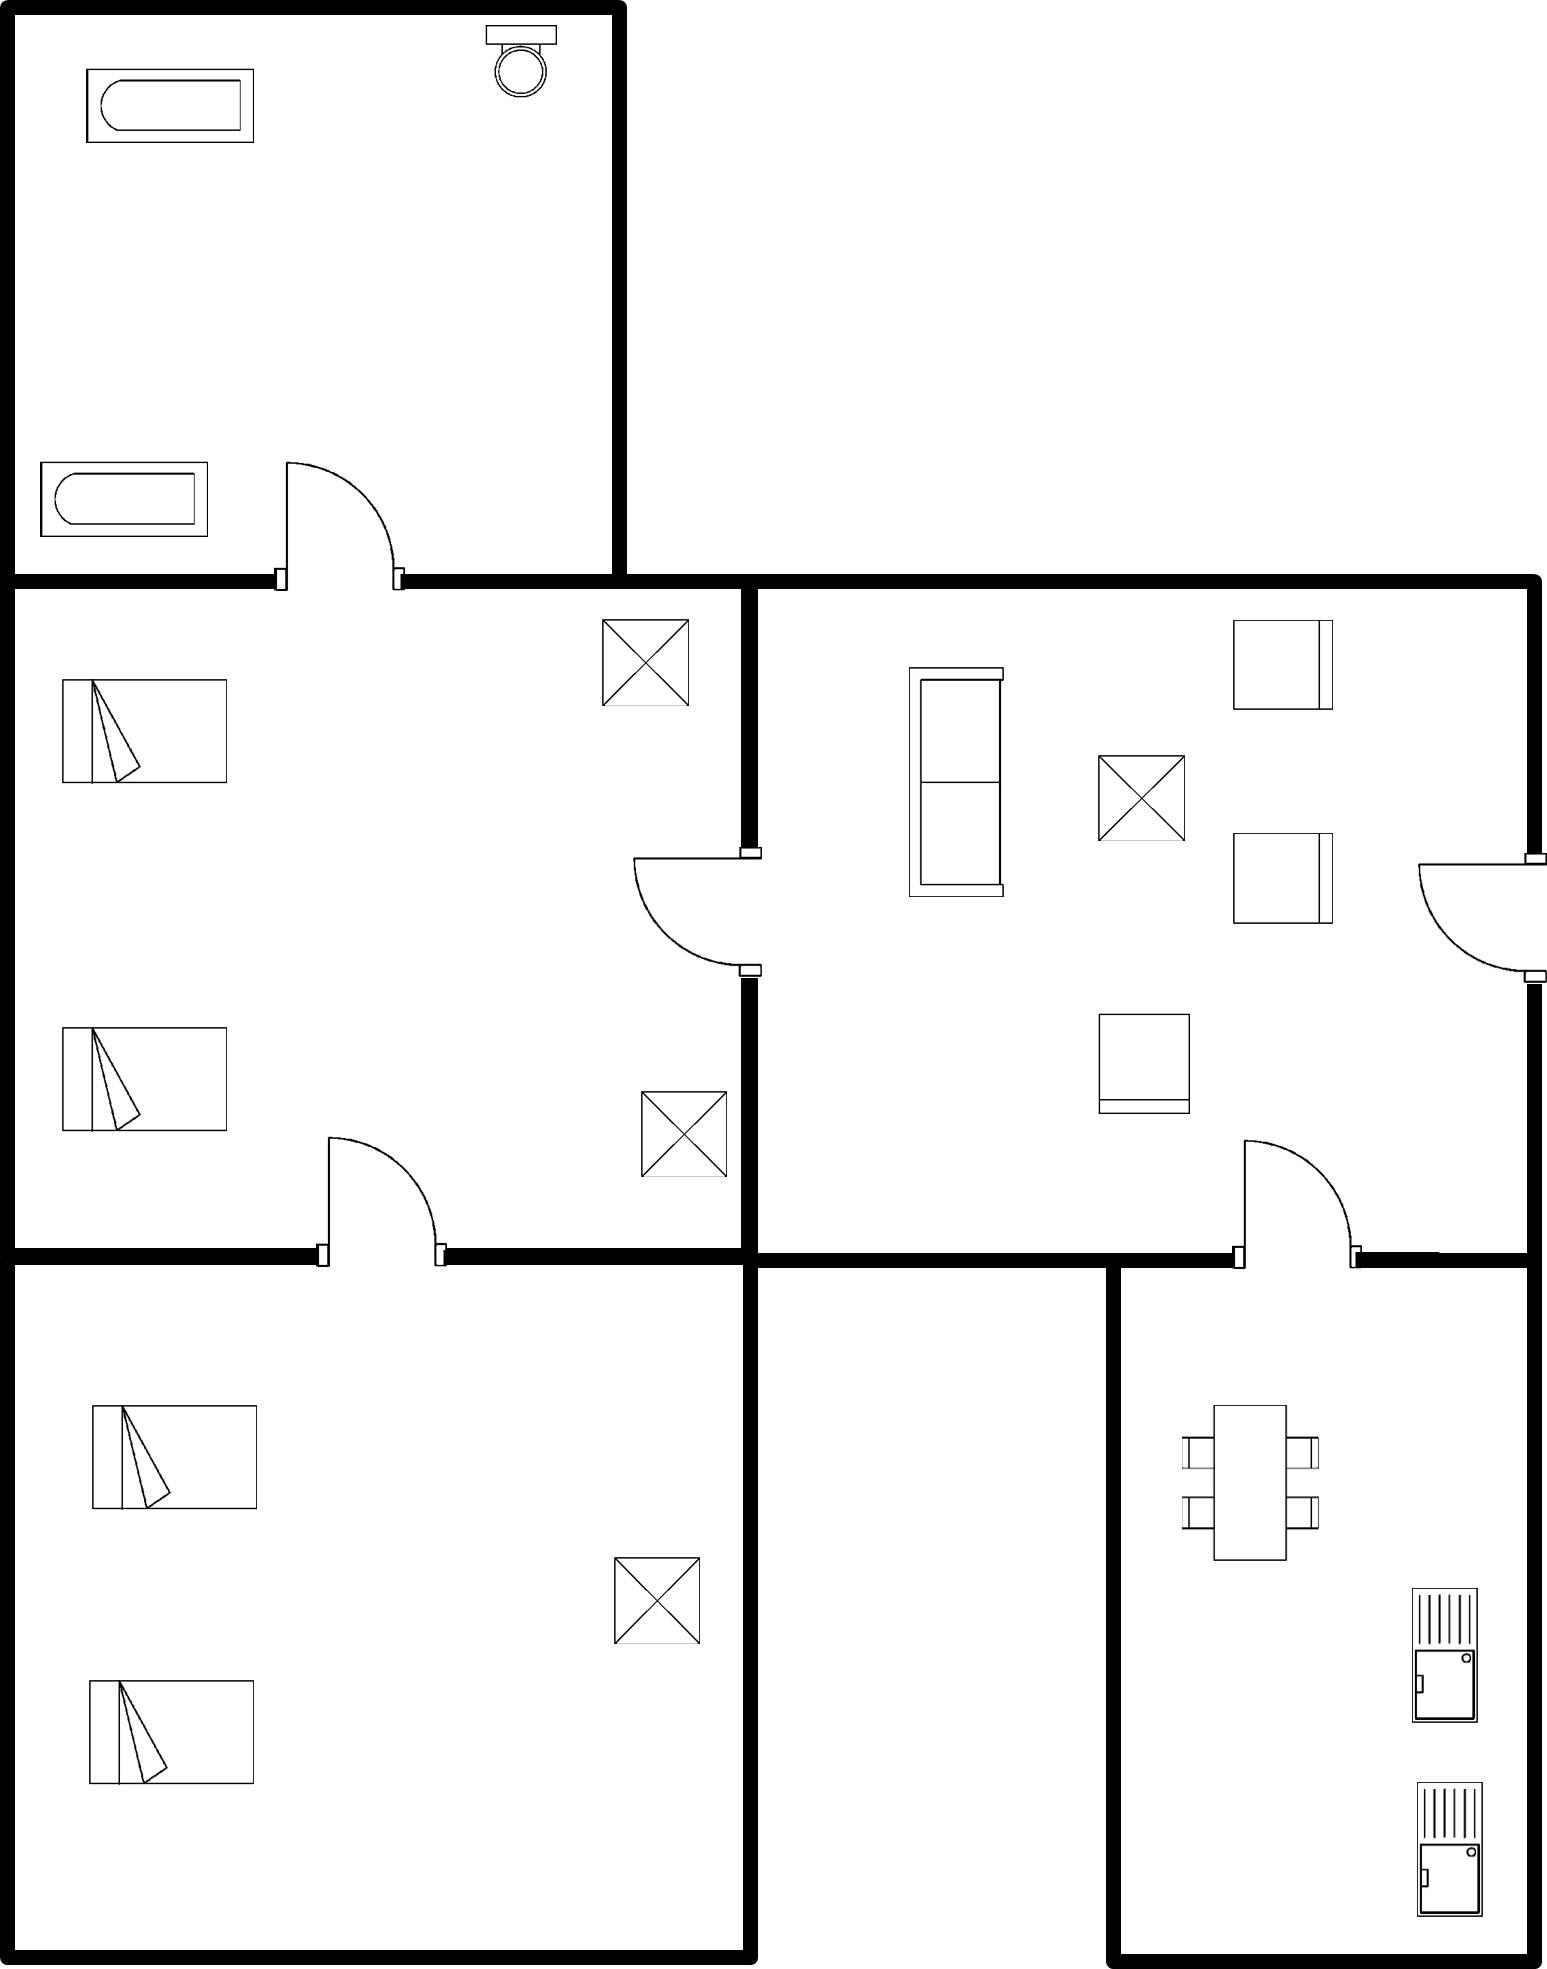bed: (69, 1387, 275, 1529), (50, 662, 241, 801), (77, 1670, 268, 1803), (42, 1016, 240, 1143)
dining_table: (1165, 1395, 1326, 1581)
sink: (1390, 1576, 1494, 1731), (1400, 1761, 1497, 1926)
sofa: (892, 649, 1016, 909)
toilet: (467, 13, 567, 109)
tub: (67, 53, 272, 153), (30, 449, 221, 551)
